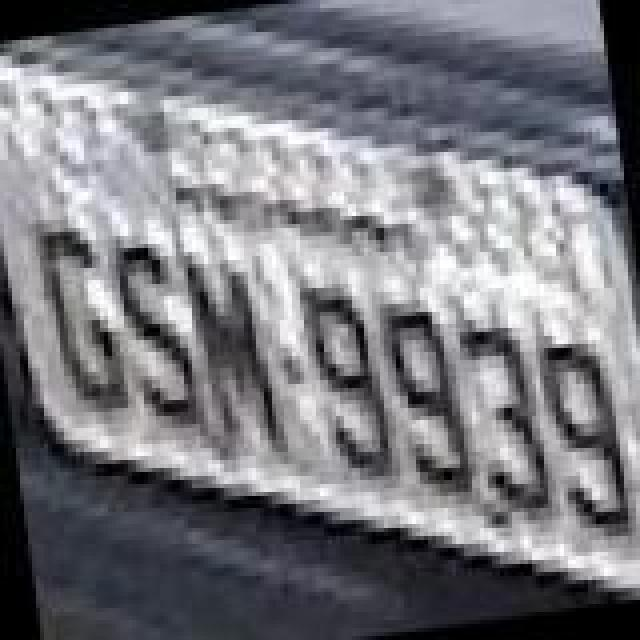3: (454, 320, 554, 528)
9: (532, 332, 636, 548), (298, 280, 398, 488), (380, 300, 476, 508)
G: (34, 218, 134, 422)
M: (180, 240, 284, 464)
S: (108, 238, 204, 434)
